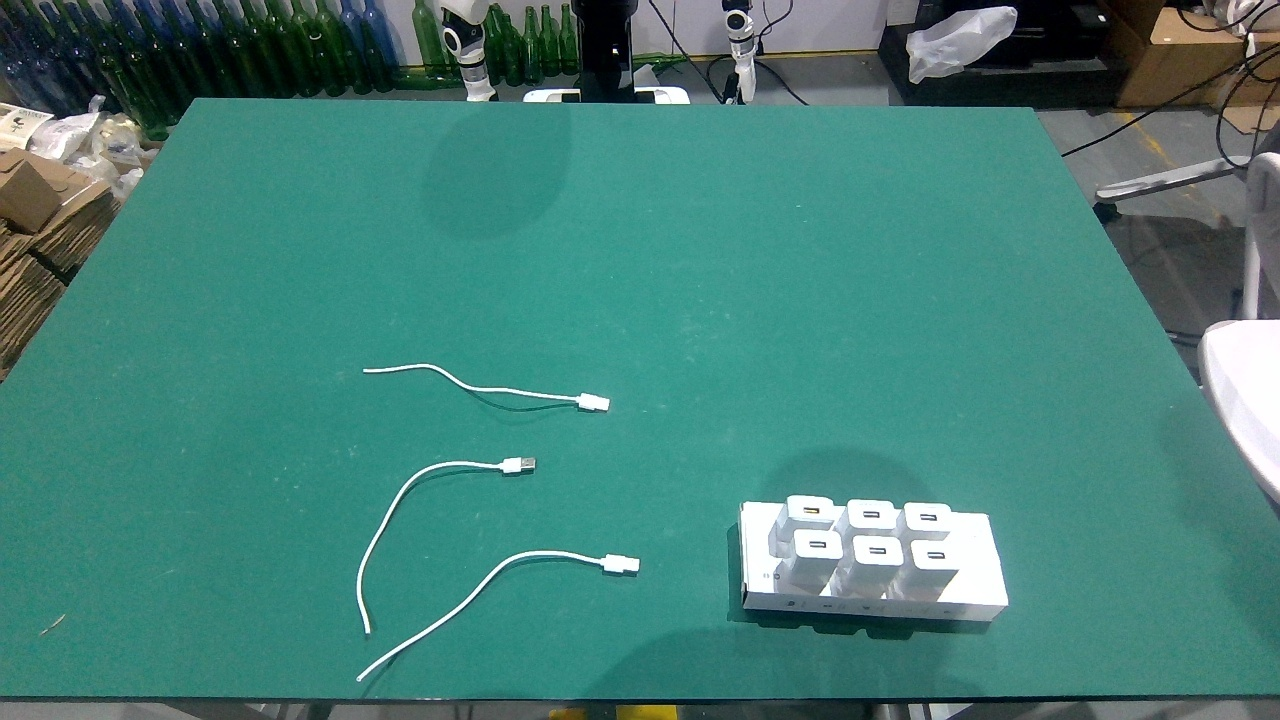usb_a_port: (867, 541, 892, 560), (799, 503, 827, 519), (804, 537, 833, 552), (916, 511, 941, 525), (926, 548, 951, 562), (861, 508, 883, 520)
